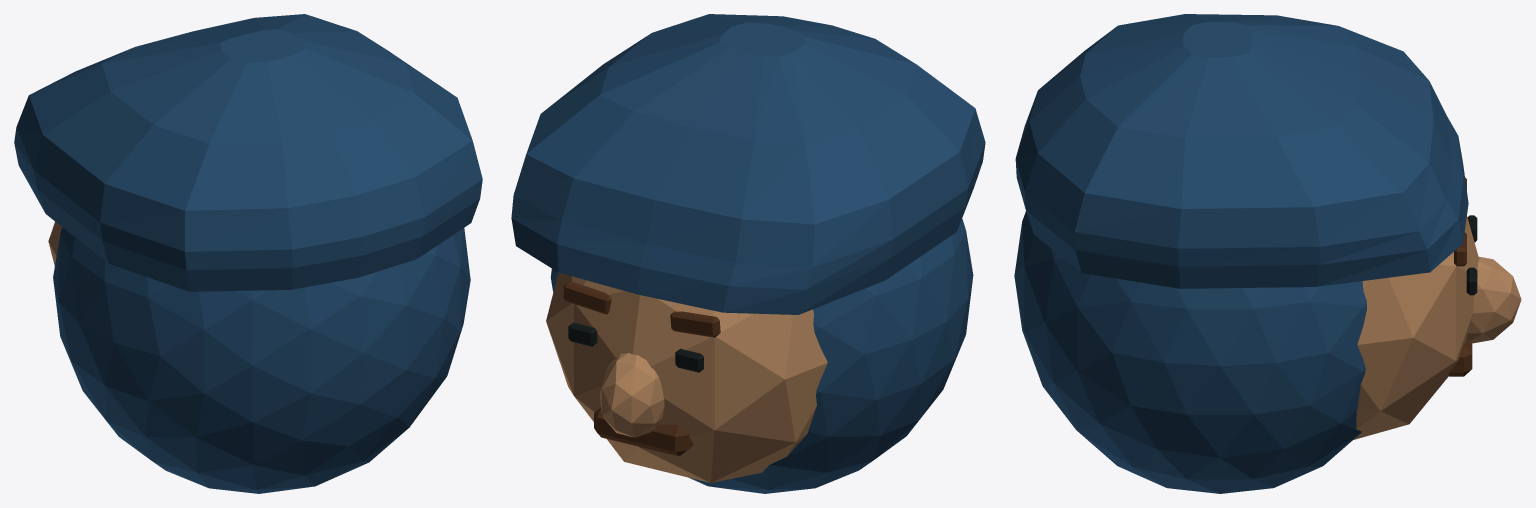
Rendered from Head.glb.
The picture shows the model from 3 angles, left to right: view 1: azimuth 30°, elevation 25°; view 2: azimuth 150°, elevation 25°; view 3: azimuth 270°, elevation 25°; orthographic projection.
Parts seen in each view (by area): view 1: Sculpture; view 2: Sculpture; view 3: Sculpture.
Boxes of the visible parts, x1=… form: Sculpture: x1=14, y1=14, x2=482, y2=493; Sculpture: x1=511, y1=14, x2=985, y2=493; Sculpture: x1=1014, y1=14, x2=1521, y2=493.
Bounding box in the file's own units: 0.5603 × 0.632 × 0.665.
